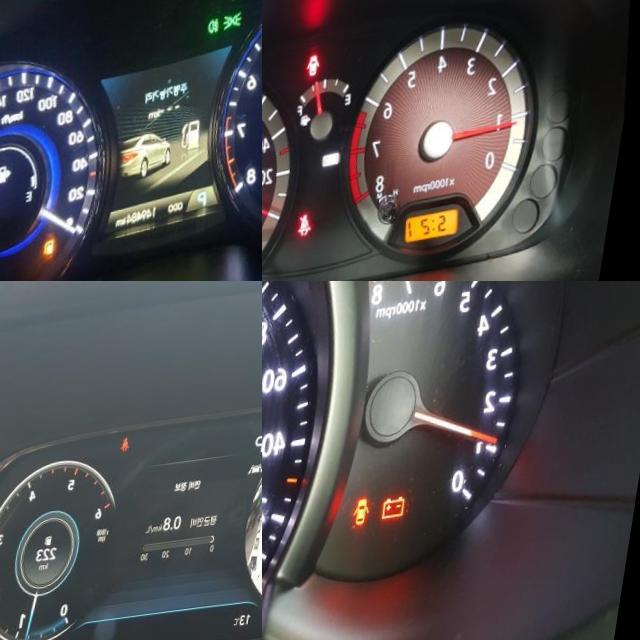Doors: (313, 61, 330, 86)
FrontFogLight: (215, 25, 230, 43)
LaneCenteringOff: (257, 471, 262, 483)
SideLamp: (230, 19, 253, 40)
